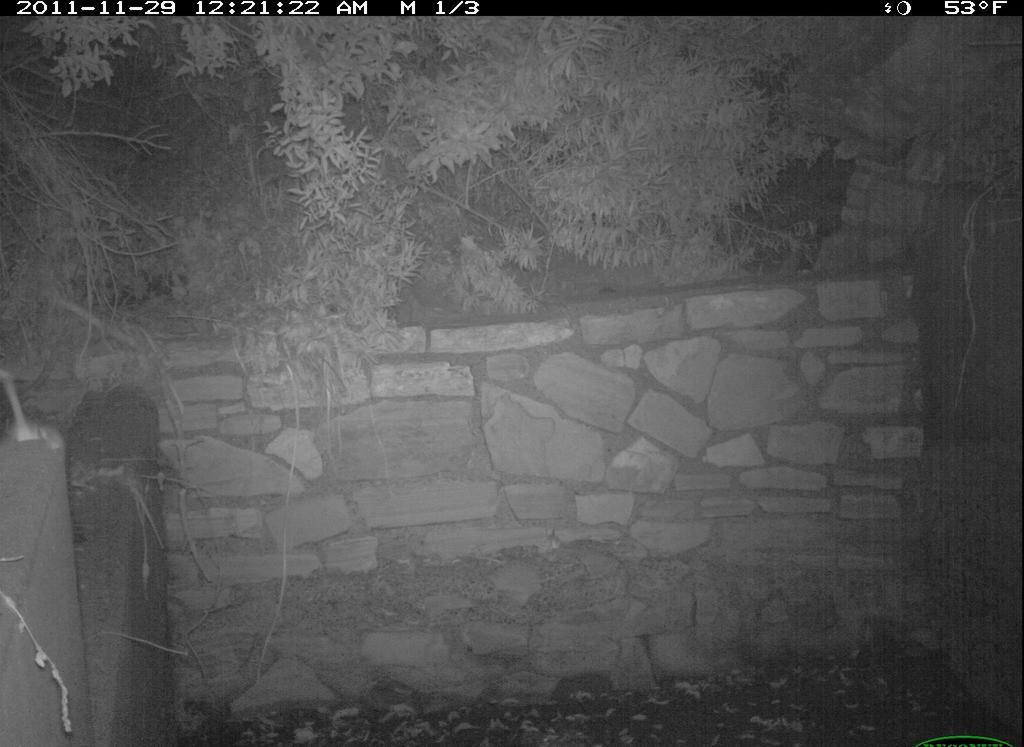rodent: (1, 361, 69, 467)
